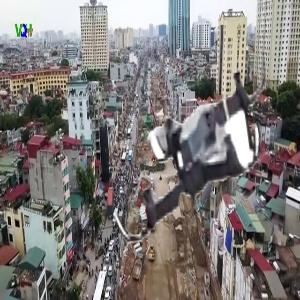drone: (100, 65, 285, 250)
